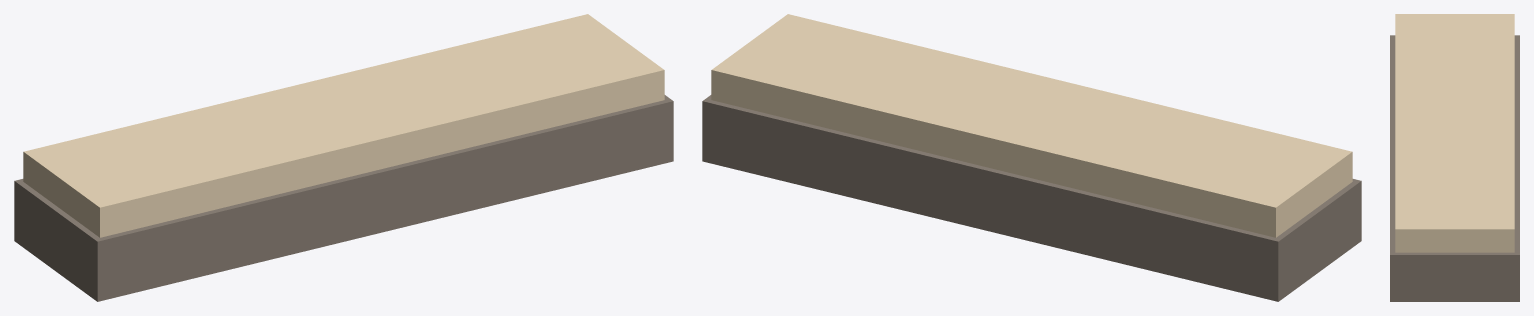
File: SM_LPI_Floor_BlockAsh_01.fbx
The picture shows the model from 3 angles, left to right: view 1: azimuth 30°, elevation 25°; view 2: azimuth 150°, elevation 25°; view 3: azimuth 270°, elevation 25°; orthographic projection. The views are drawn at different scales.
Visible parts, largest first — view 1: SM_LPI_Floor_BlockAsh_01; view 2: SM_LPI_Floor_BlockAsh_01; view 3: SM_LPI_Floor_BlockAsh_01.
Boxes of the visible parts, x1,y1,x2,y2 form: SM_LPI_Floor_BlockAsh_01: (14, 14, 673, 301); SM_LPI_Floor_BlockAsh_01: (702, 14, 1361, 301); SM_LPI_Floor_BlockAsh_01: (1390, 14, 1519, 301).
Bounding box in the file's own units: 0.3 × 0.045 × 0.075.
